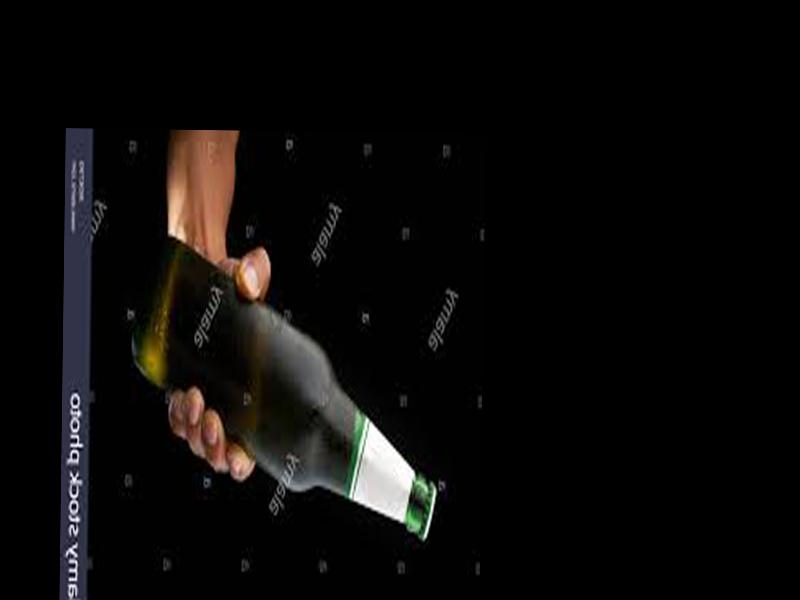Beer: (125, 235, 441, 543)
